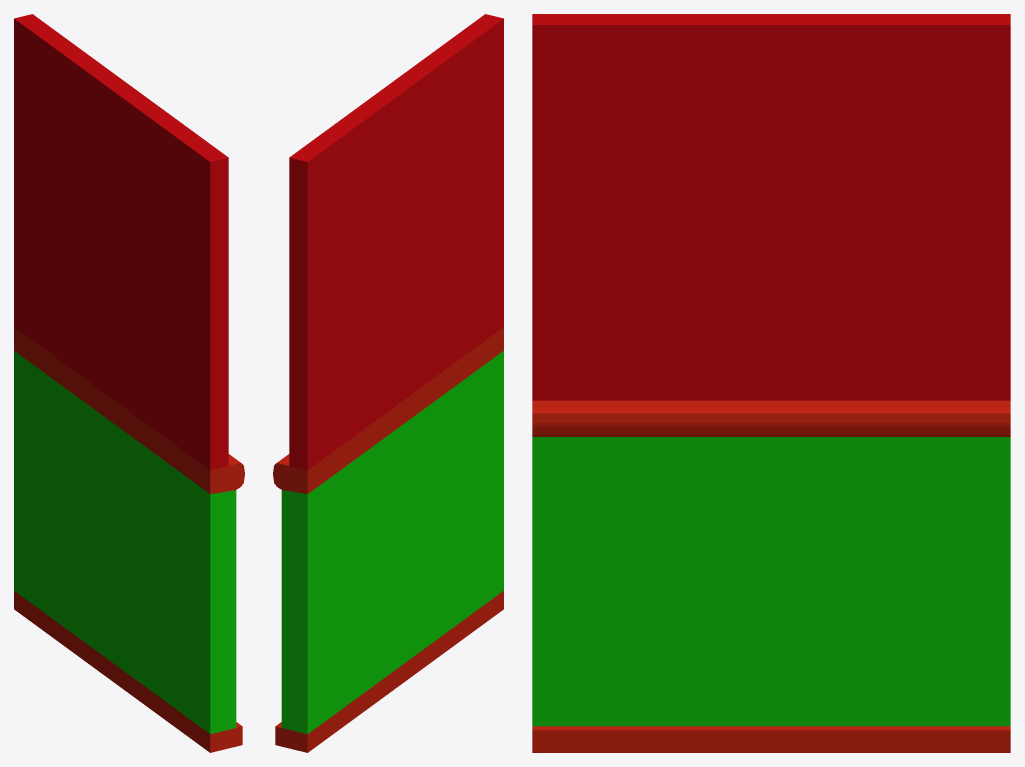
The model's file is Pared_Casa.obj.
3 renders of one model, left to right at view 1: azimuth 30°, elevation 25°; view 2: azimuth 150°, elevation 25°; view 3: azimuth 270°, elevation 25°, orthographic. The views are drawn at different scales.
Visible parts, largest first — view 1: Cube_Cube.001; view 2: Cube_Cube.001; view 3: Cube_Cube.001.
Boxes of the visible parts, left/top/right/bottom form: Cube_Cube.001: left=14, top=14, right=244, bottom=752; Cube_Cube.001: left=273, top=14, right=503, bottom=752; Cube_Cube.001: left=532, top=14, right=1010, bottom=752.
Bounding box in the file's own units: 0.1227 × 2 × 1.2.
